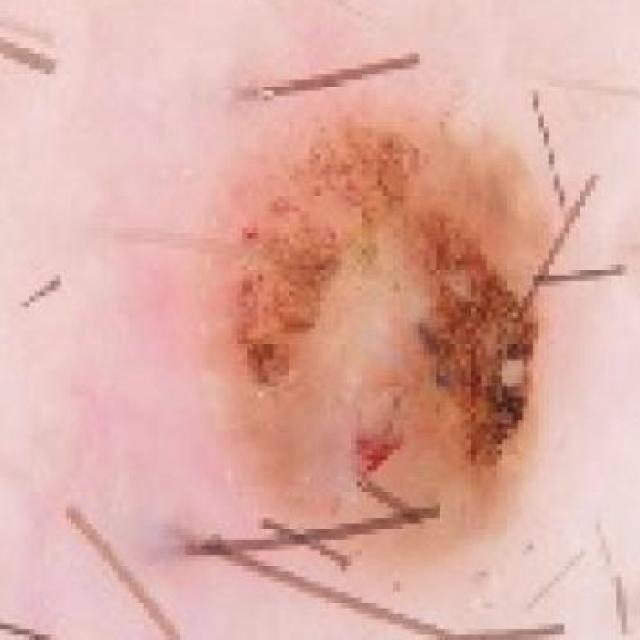BKL: (202, 98, 563, 573)
